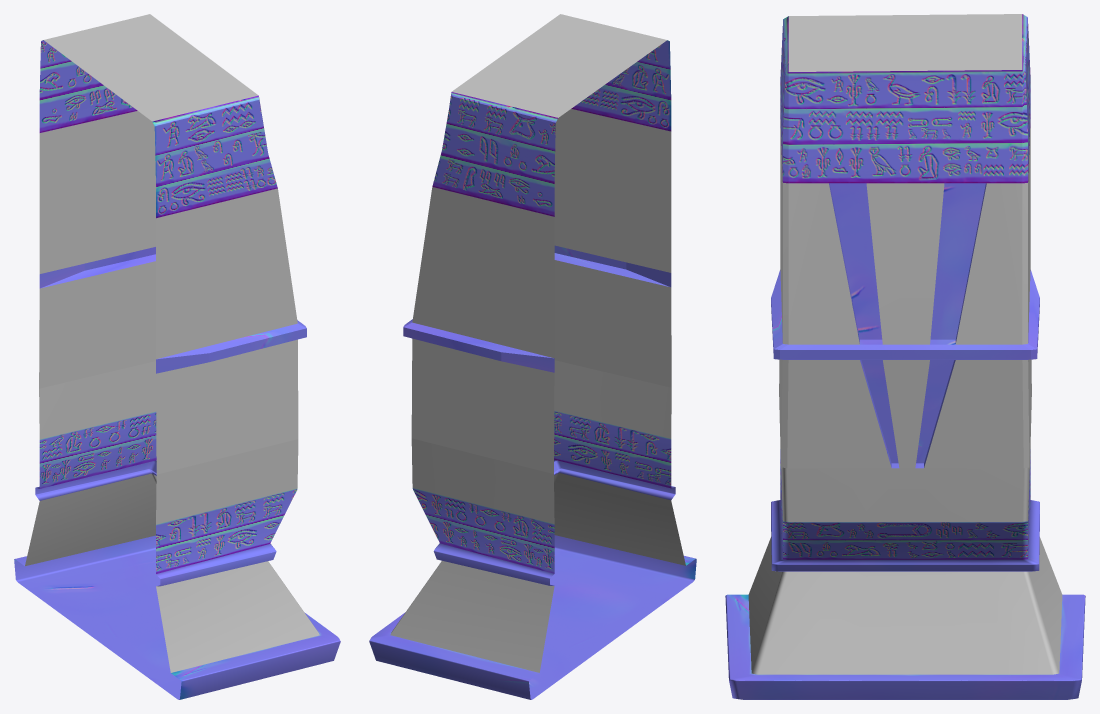
File: PillarTop_Doorside.fbx
The picture shows the model from 3 angles, left to right: view 1: azimuth 30°, elevation 25°; view 2: azimuth 150°, elevation 25°; view 3: azimuth 270°, elevation 25°; orthographic projection. The views are drawn at different scales.
Visible parts, largest first — view 1: PillarTop_HighCeiling; view 2: PillarTop_HighCeiling; view 3: PillarTop_HighCeiling.
Boxes of the visible parts, x1,y1,x2,y2 form: PillarTop_HighCeiling: (14, 14, 340, 699); PillarTop_HighCeiling: (369, 14, 696, 699); PillarTop_HighCeiling: (725, 14, 1085, 699).
Size of the model in its own units: 6.61 by 21.77 by 11.77.
